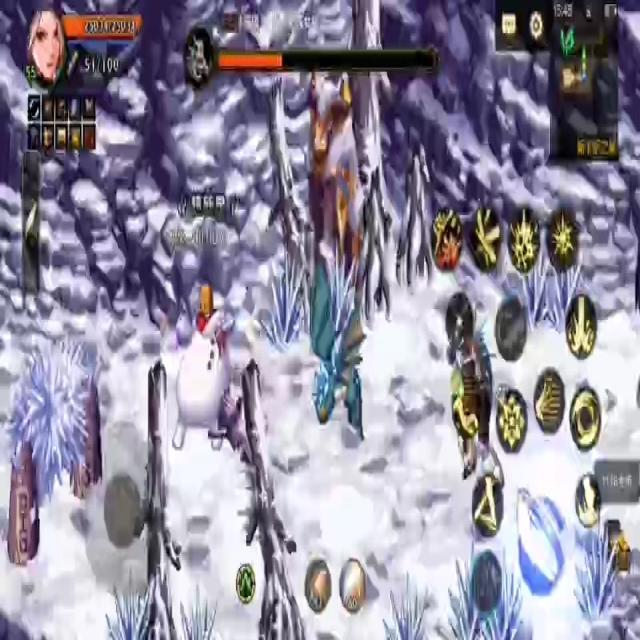player: (171, 282, 234, 454)
